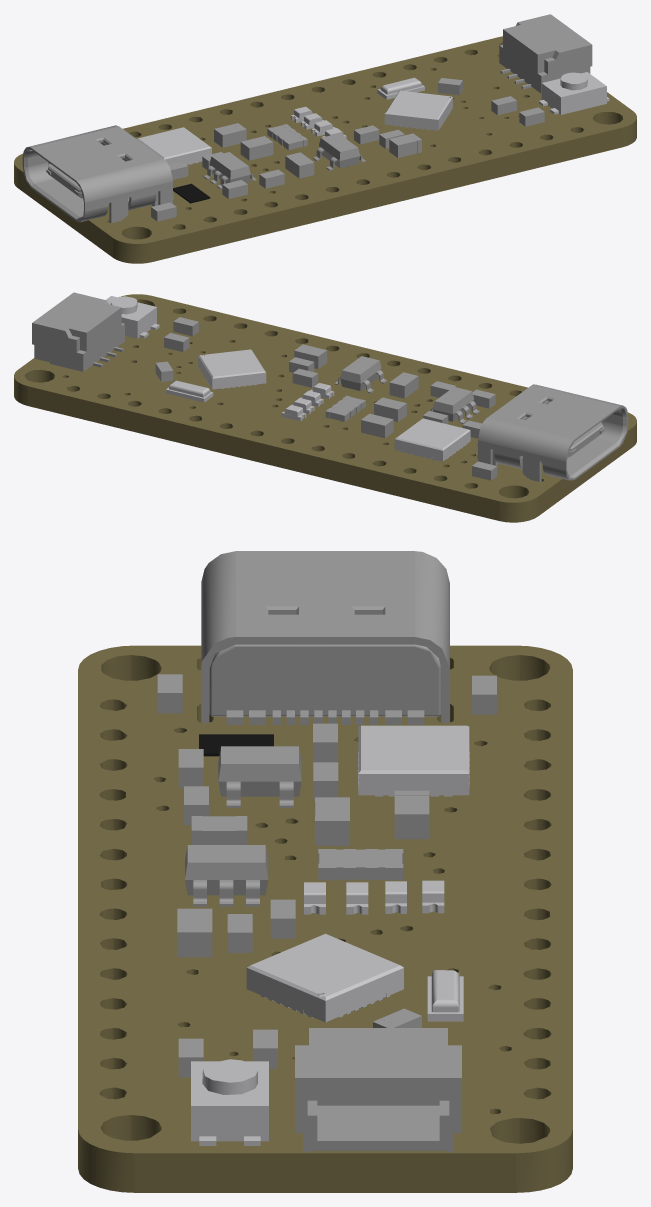
Rendered from ada-2590.glb.
3 views of the same model, one above another, from view 1: azimuth 30°, elevation 25°; view 2: azimuth 150°, elevation 25°; view 3: azimuth 270°, elevation 25° (orthographic). The views are drawn at different scales.
Parts seen in each view (by area): view 1: 0.16666666666666666_0.16666666666666666_0.08333333333333333_, 0.3333333333333333_0.3333333333333333_0.3333333333333333_0, 0.5833333333333334_0.5833333333333334_0.5833333333333334_0.8, 0_0_0_0; view 2: 0.16666666666666666_0.16666666666666666_0.08333333333333333_, 0.3333333333333333_0.3333333333333333_0.3333333333333333_0, 0.5833333333333334_0.5833333333333334_0.5833333333333334_0.8; view 3: 0.16666666666666666_0.16666666666666666_0.08333333333333333_, 0.3333333333333333_0.3333333333333333_0.3333333333333333_0, 0.5833333333333334_0.5833333333333334_0.5833333333333334_0.8, 0_0_0_0.
Part boxes in pixels (box(x1,y1,x2,y2)): 0.16666666666666666_0.16666666666666666_0.08333333333333333_: box(14, 36, 636, 263); 0.3333333333333333_0.3333333333333333_0.3333333333333333_0: box(22, 14, 592, 222); 0.5833333333333334_0.5833333333333334_0.5833333333333334_0.8: box(137, 72, 609, 164); 0_0_0_0: box(173, 183, 210, 203); 0.16666666666666666_0.16666666666666666_0.08333333333333333_: box(14, 294, 636, 522); 0.3333333333333333_0.3333333333333333_0.3333333333333333_0: box(32, 292, 628, 481); 0.5833333333333334_0.5833333333333334_0.5833333333333334_0.8: box(106, 296, 470, 461); 0.16666666666666666_0.16666666666666666_0.08333333333333333_: box(78, 645, 572, 1192); 0.3333333333333333_0.3333333333333333_0.3333333333333333_0: box(157, 551, 496, 1152); 0.5833333333333334_0.5833333333333334_0.5833333333333334_0.8: box(191, 725, 469, 1145); 0_0_0_0: box(199, 734, 273, 756).
Bounding box in the file's own units: 4.41 × 0.4871 × 1.78.
